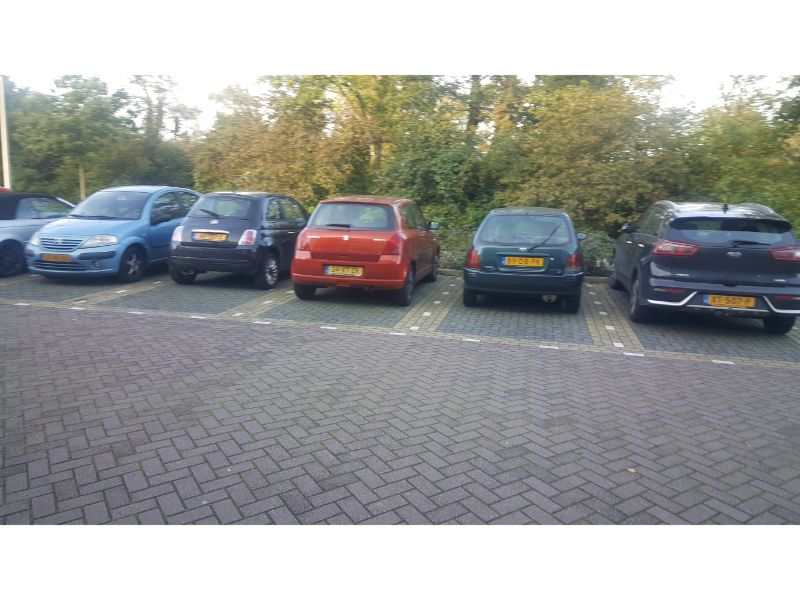kenteken: (704, 292, 757, 307), (502, 254, 546, 267), (193, 227, 226, 241), (322, 265, 363, 276), (38, 250, 72, 262)
